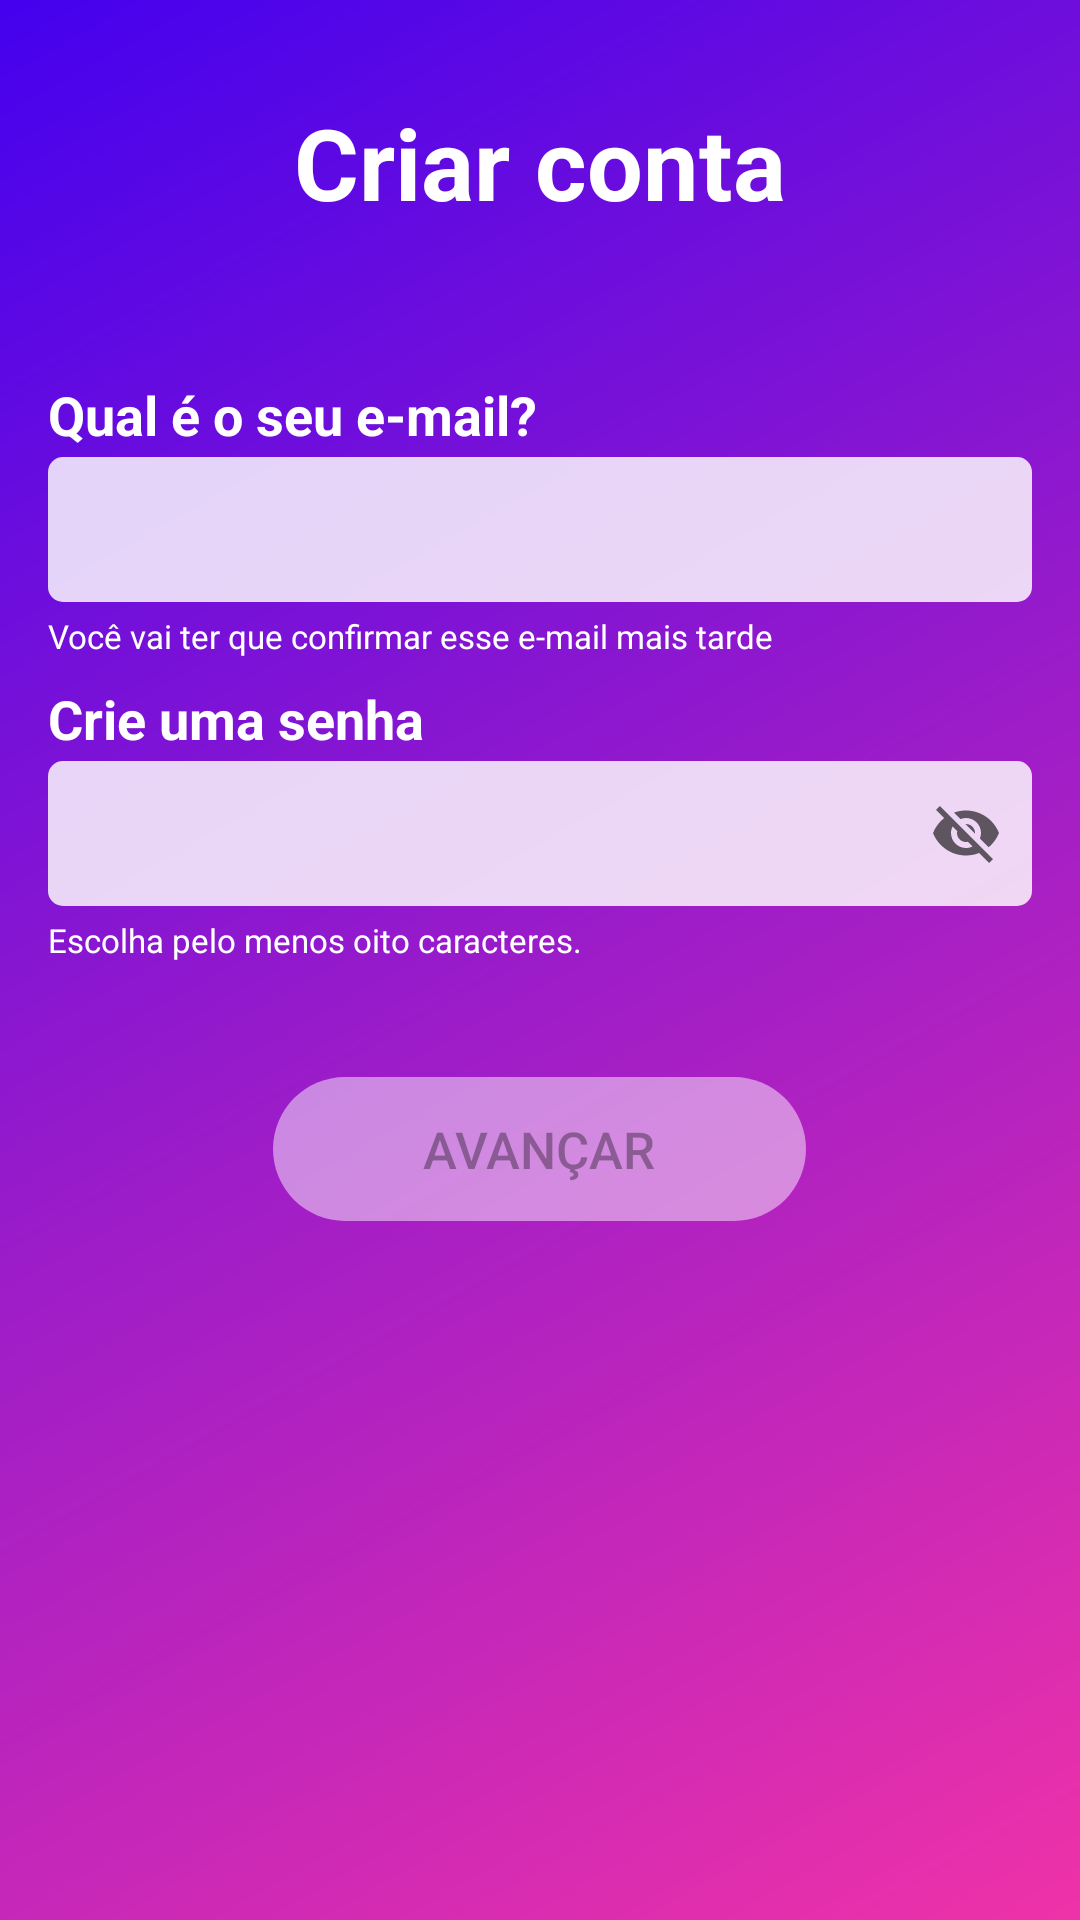

Locate icon controls on the screen. Image size 1080px x 1920px, boxes as (x1, y1, x2, y2).
Password visibility icon: (933, 806, 999, 863)
